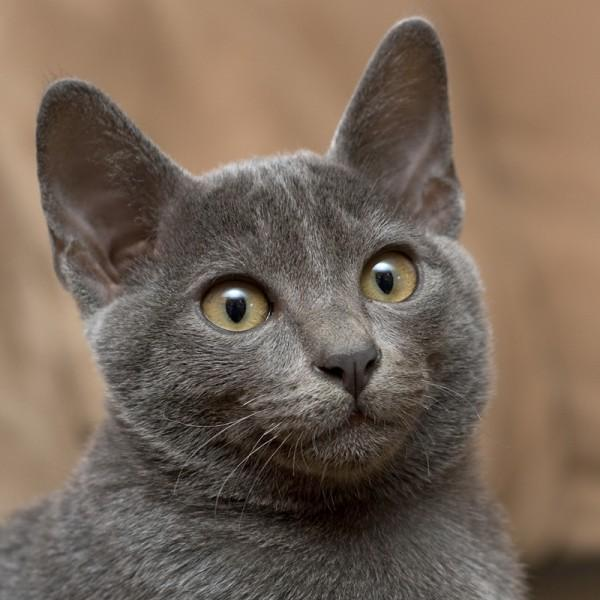rblue: (33, 11, 507, 490)
